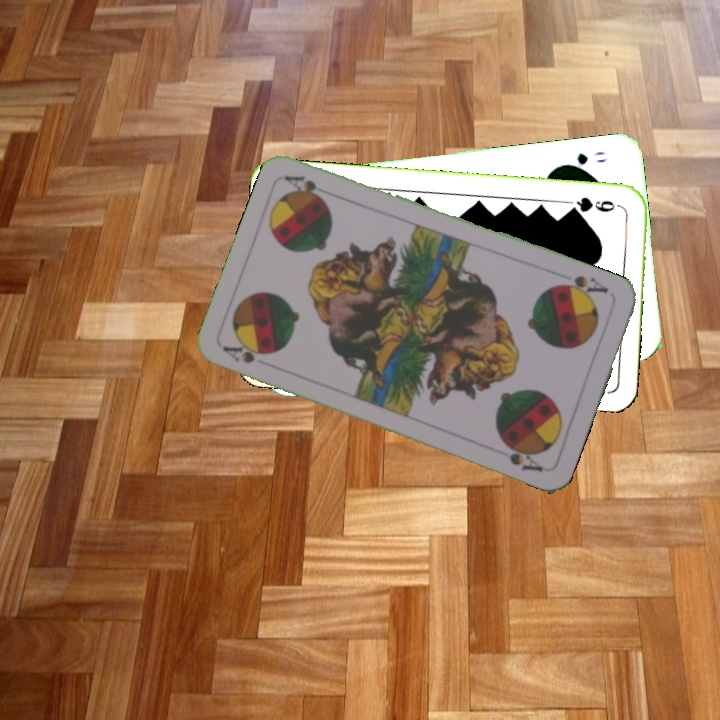G9: (565, 193, 624, 215)
GO: (558, 147, 610, 172)
SA: (554, 271, 611, 302), (218, 336, 276, 366)
